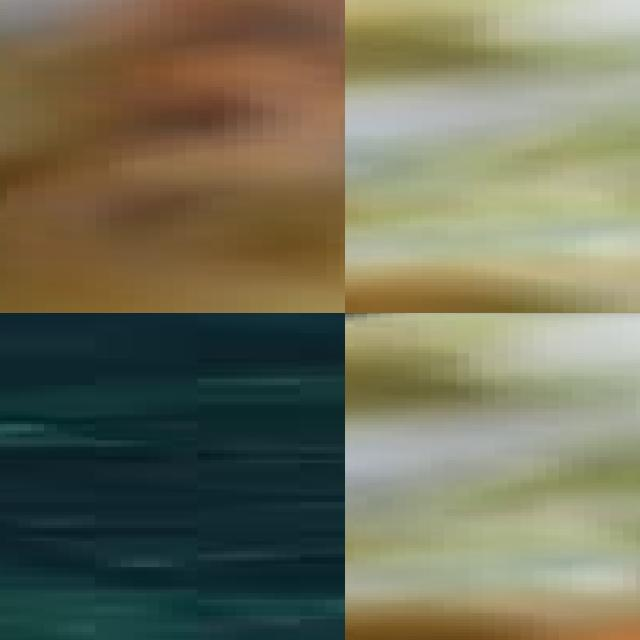fish: (0, 0, 345, 313), (345, 313, 640, 408)
